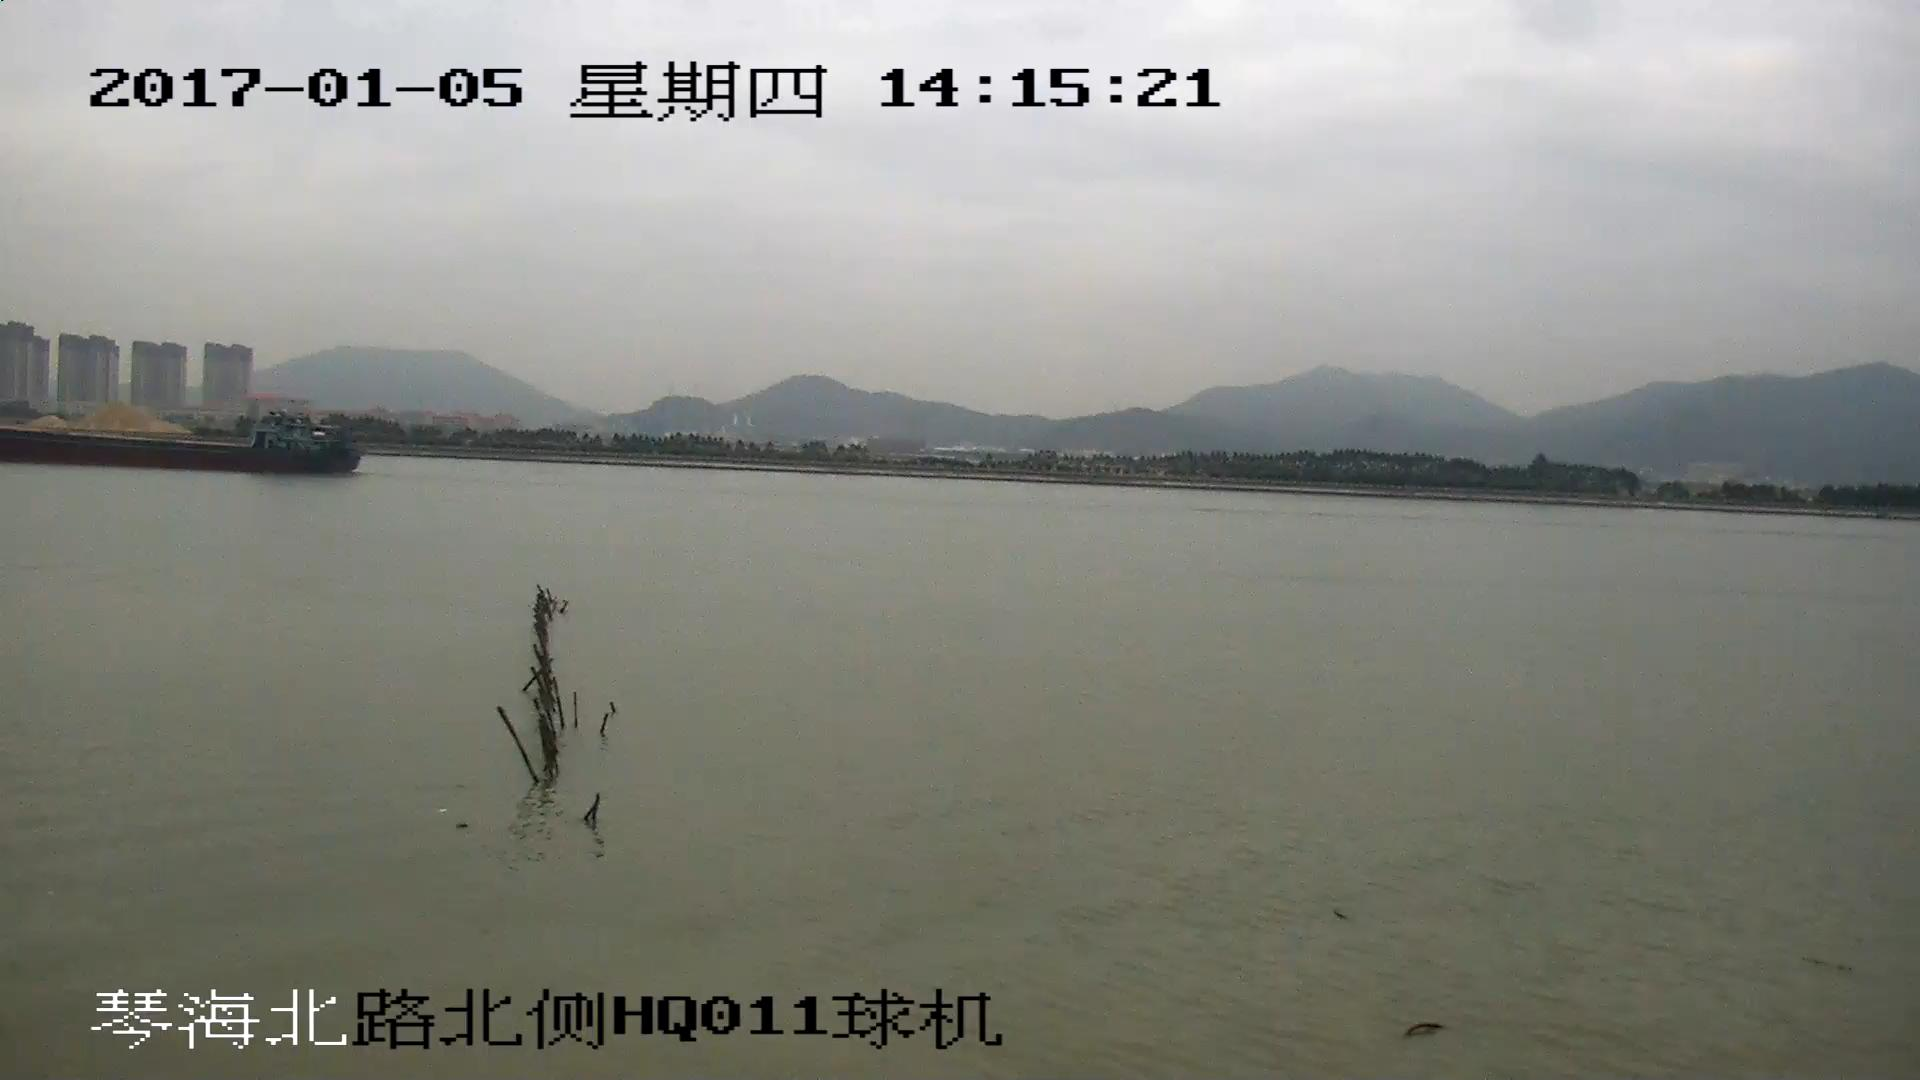bulk cargo carrier: (1, 414, 363, 469)
